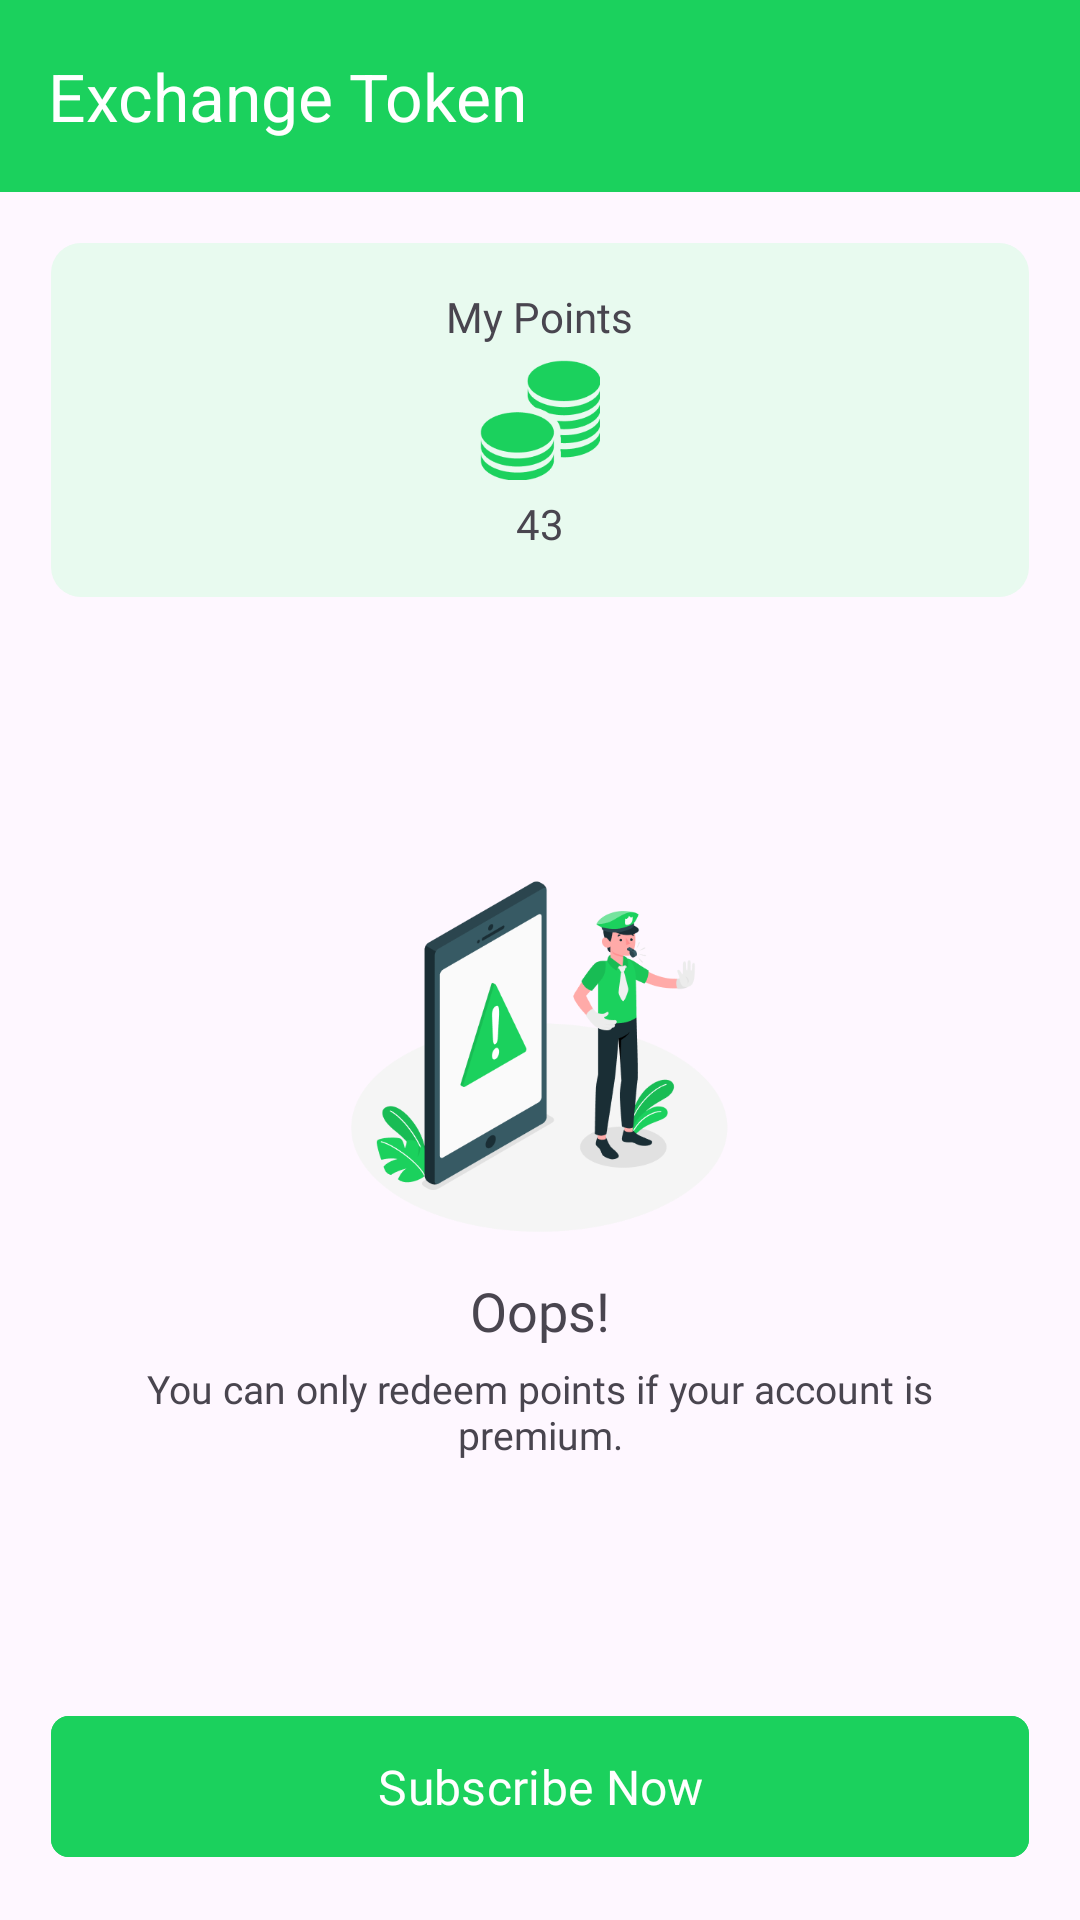

Icon bounding boxes for this 1080px×1920px phone screenshot, format BBox(x1, y1, x2, y2):
feature not yet: BBox(376, 881, 689, 1190)
points exchange: BBox(480, 360, 600, 480)
